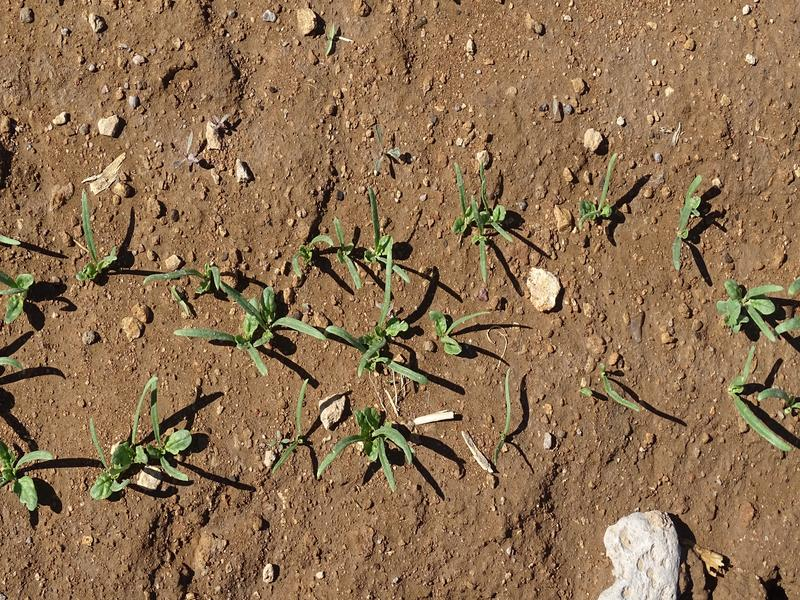Espinaca: (218, 179, 519, 490), (91, 378, 194, 501), (724, 349, 800, 451), (717, 273, 793, 347), (581, 156, 635, 239), (76, 194, 124, 287), (1, 439, 57, 500), (1, 229, 33, 317), (671, 184, 699, 263)
